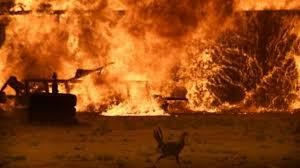fire: (18, 0, 300, 120)
